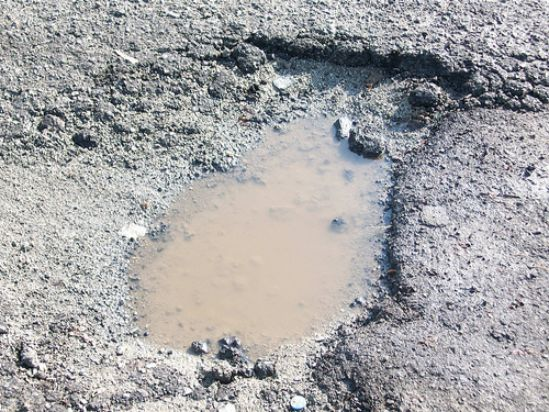pothole: (104, 28, 473, 363)
